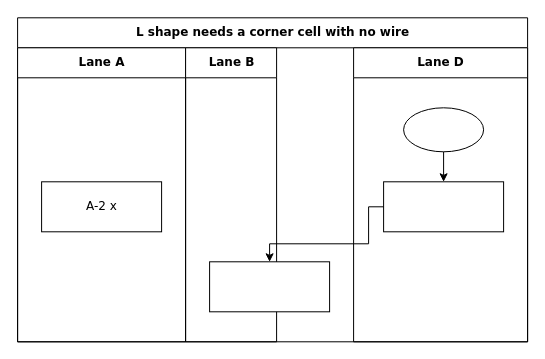
This 545x359 diagram has some shape labels left out. Here are the shapes that lost their labels. From the top down, the centre of each, then its label:
At point 443,129: "D-1 x".
At point 443,206: "D-3 x".
At point 269,286: "B-4 x".
